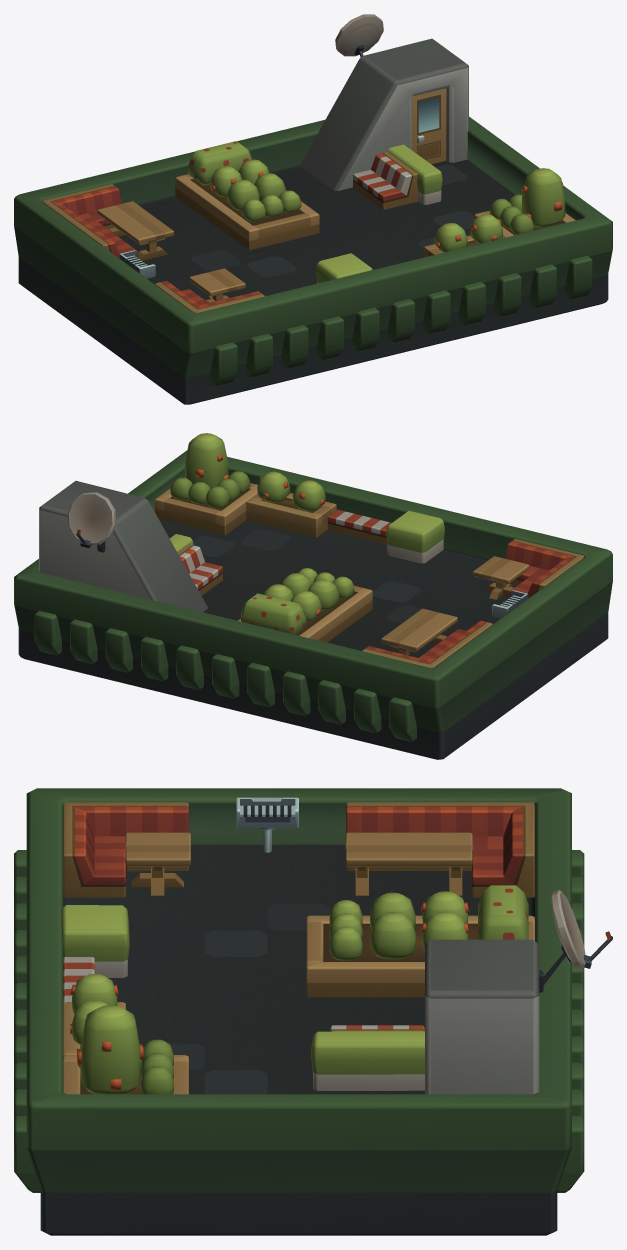
File: appartment_type1_roof_type2_x6_flat_black_deco.fbx
3 renders of one model, top to bottom at view 1: azimuth 30°, elevation 25°; view 2: azimuth 150°, elevation 25°; view 3: azimuth 270°, elevation 25°, orthographic. The views are drawn at different scales.
Visible parts, largest first — view 1: appartment_type1_roof_type2_x6_flat_black_deco, door_wood_rooftop_doorway; view 2: appartment_type1_roof_type2_x6_flat_black_deco; view 3: appartment_type1_roof_type2_x6_flat_black_deco.
Part boxes in pixels (x1,y1,x2,y2): appartment_type1_roof_type2_x6_flat_black_deco: (14,14,612,404); door_wood_rooftop_doorway: (412,88,446,164); appartment_type1_roof_type2_x6_flat_black_deco: (14,433,612,759); appartment_type1_roof_type2_x6_flat_black_deco: (14,788,612,1235).
Size of the model in its own units: 1200 by 499 by 953.
